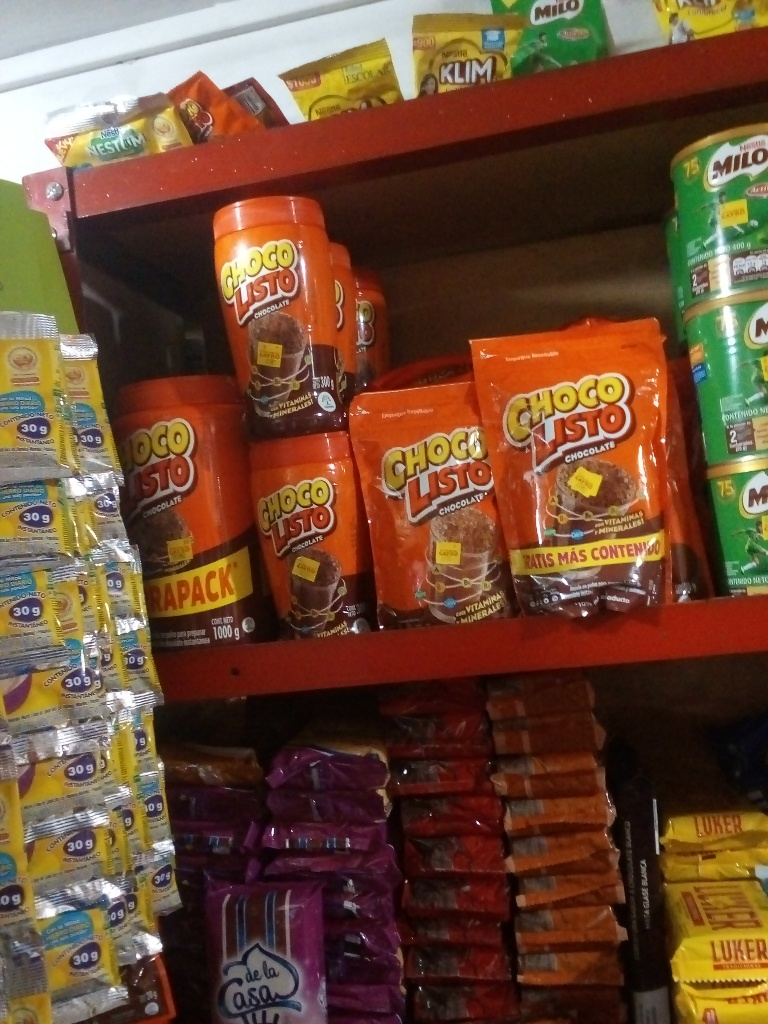COL0170103SOB02000: (190, 201, 307, 376)
